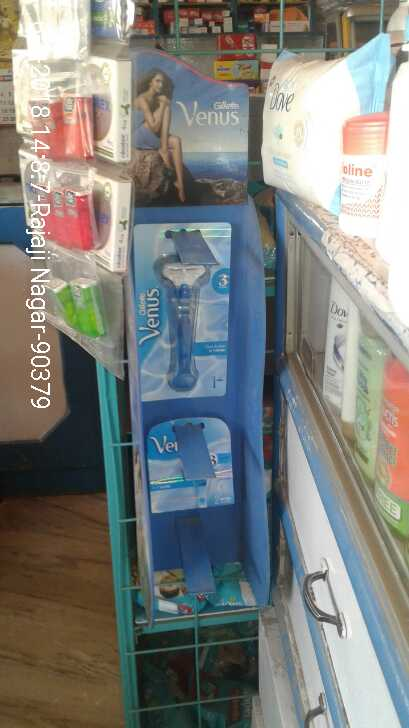venus: (135, 226, 230, 403), (145, 424, 242, 509)
